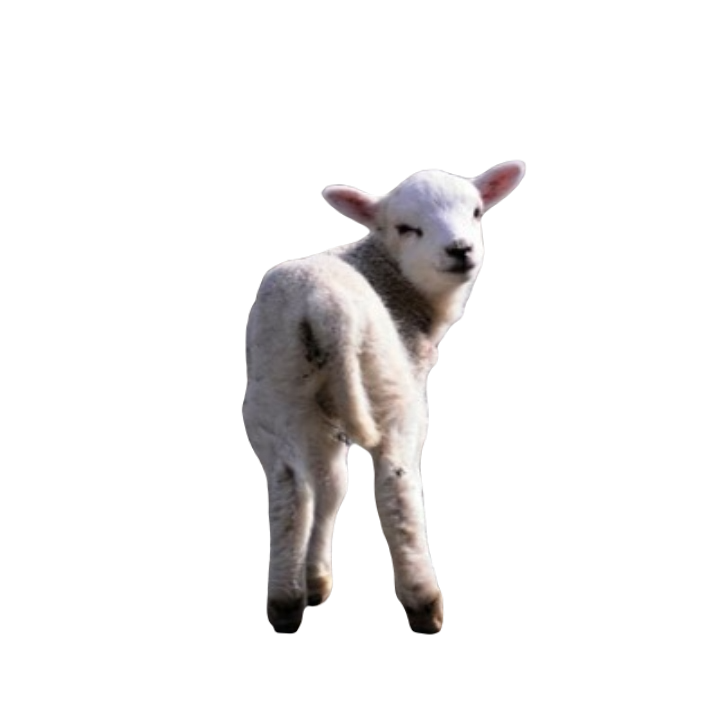Sheep: (231, 156, 536, 642)
